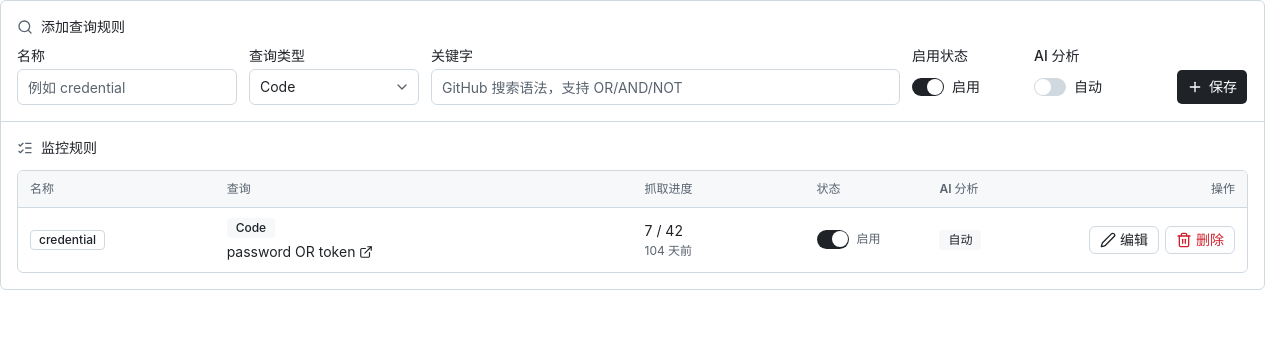
Scenario: QueryRules › loads rules, updates existing rules, toggles enabled, and deletes by tag
Expected: the text "credential" is shown, [39,232,96,248]
Expected: the text "password OR token" is shown, [227,242,355,262]
Click the switch named "credential 启用状态" at point(832, 240), box [816,230,848,249]
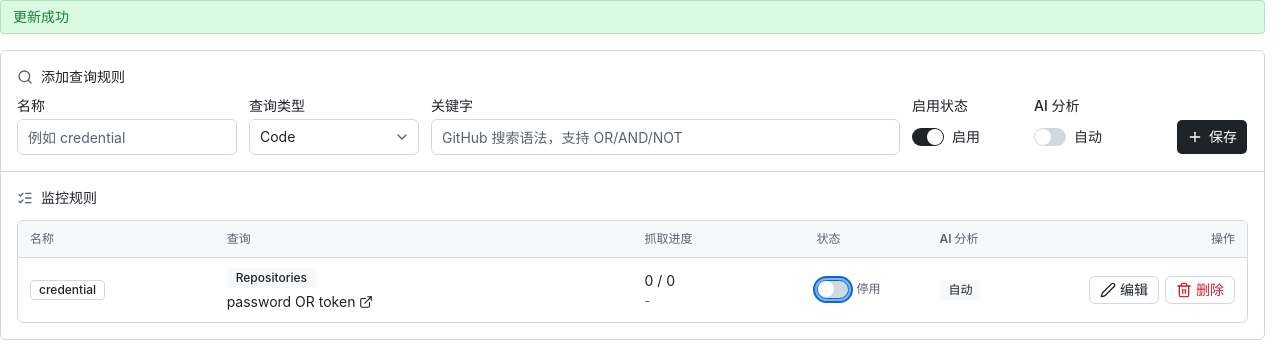
Click the button "编辑" at point(1124, 290), box [1089,276,1159,304]
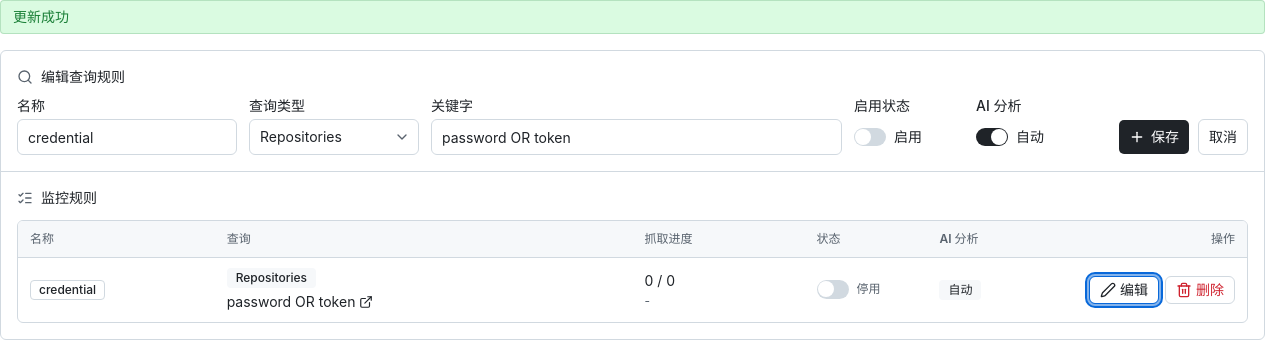
Replace the text in the field labelled "名称" with "credential-renamed" at point(127, 137), box [17,119,237,155]
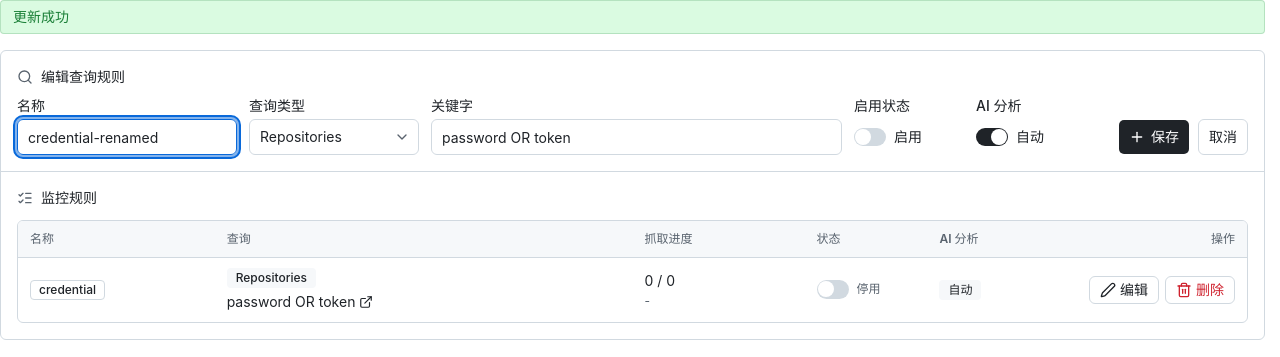
Replace the text in the field labelled "关键字" with "secret" at point(636, 137), box [431,119,842,155]
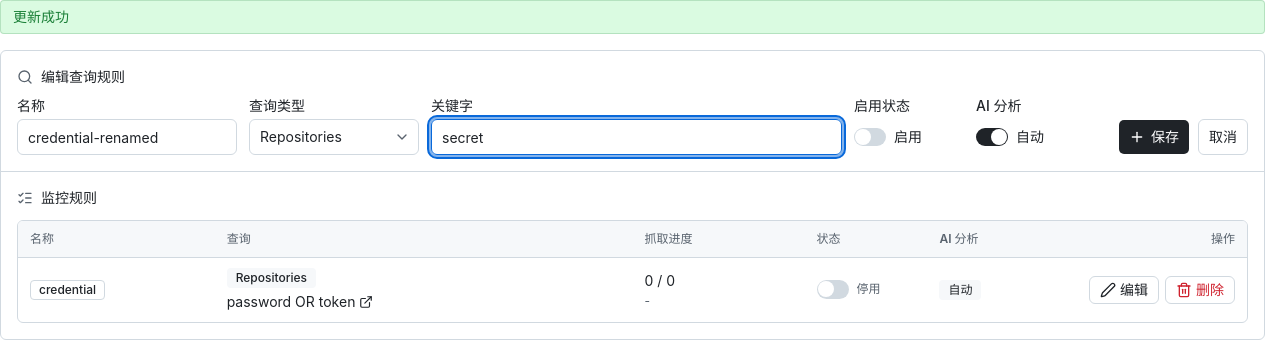
Click the button "保存" at point(1154, 137), box [1118,119,1190,155]
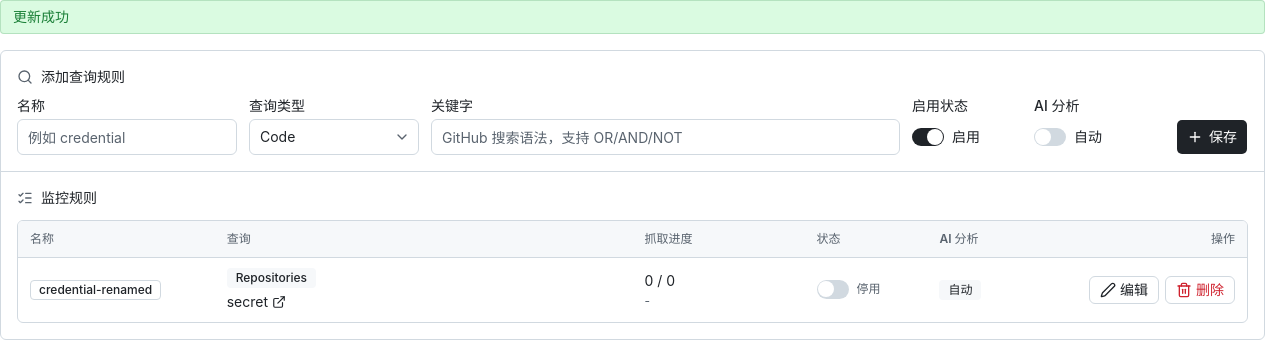
Click the button "删除" at point(1200, 290), box [1165,276,1235,304]
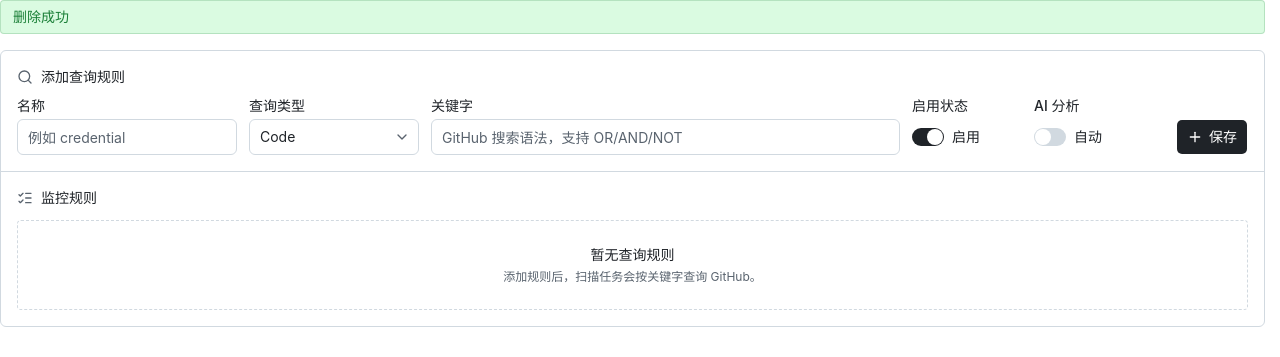
Now the text "暂无查询规则" is shown, box [590,246,674,263]
